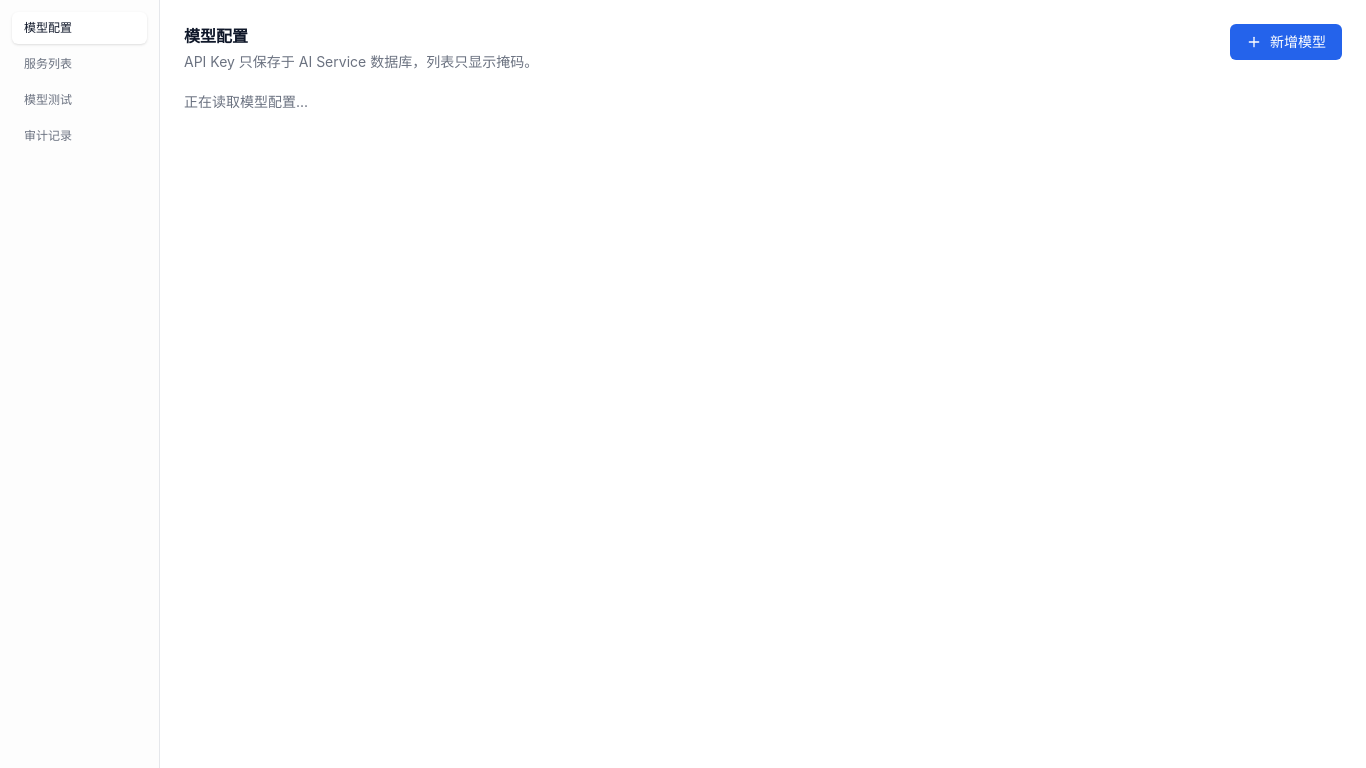
Test case: AI Service 内置应用 › 模型测试显示可编辑请求、原始响应，并可新增后自动选中新模型
The image size is (1366, 768).
Press the mouse on the tab "模型测试" at (80, 100), box [12,84,147,116]
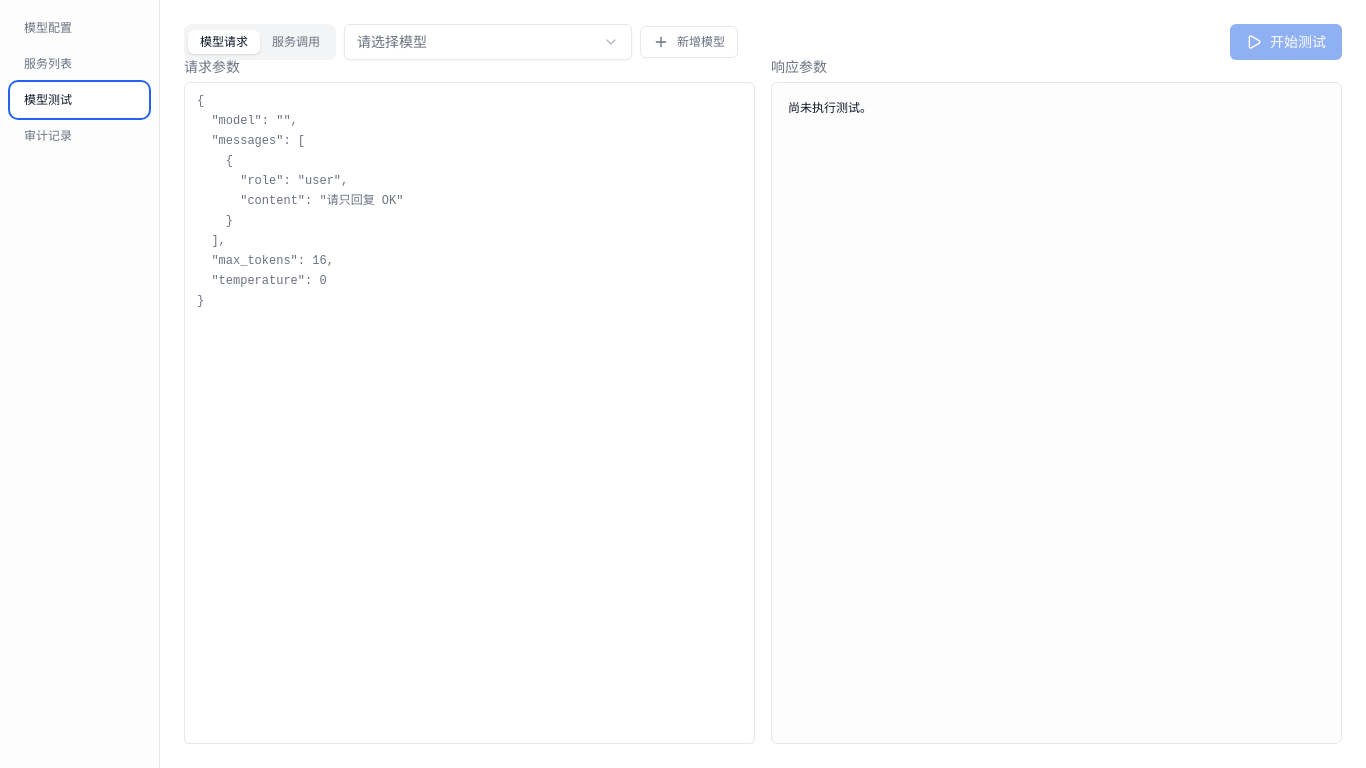
Click the tab "模型测试" at (80, 100), box [12,84,147,116]
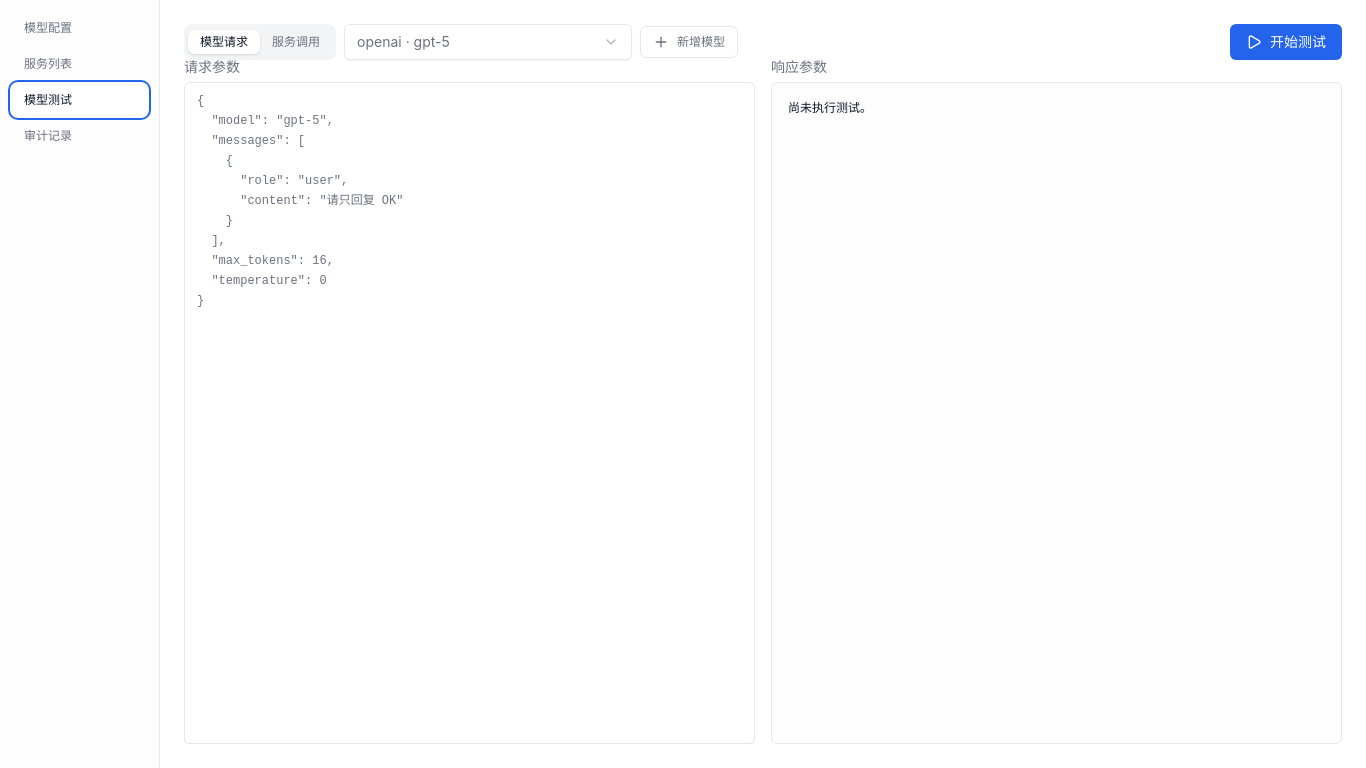
expect the dropdown named "测试模型" reads "openai · gpt-5": met, box [344,24,632,60]
Click the button "开始测试" at (1286, 42), box [1230,24,1342,60]
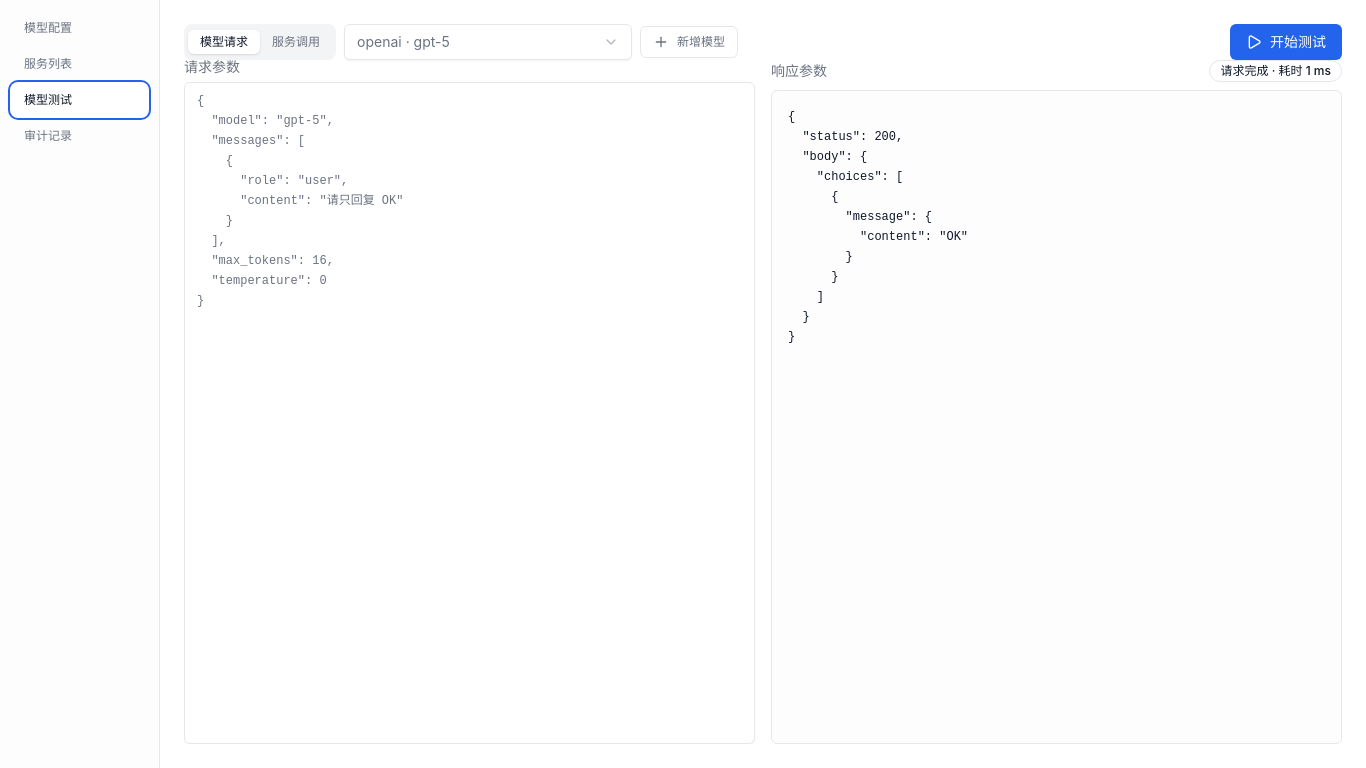
expect the text "请求参数" is shown: met, box [184,58,240,75]
expect the text "响应参数" is shown: met, box [771,64,827,78]
Click the button "新增模型" at (689, 42), box [640,26,738,58]
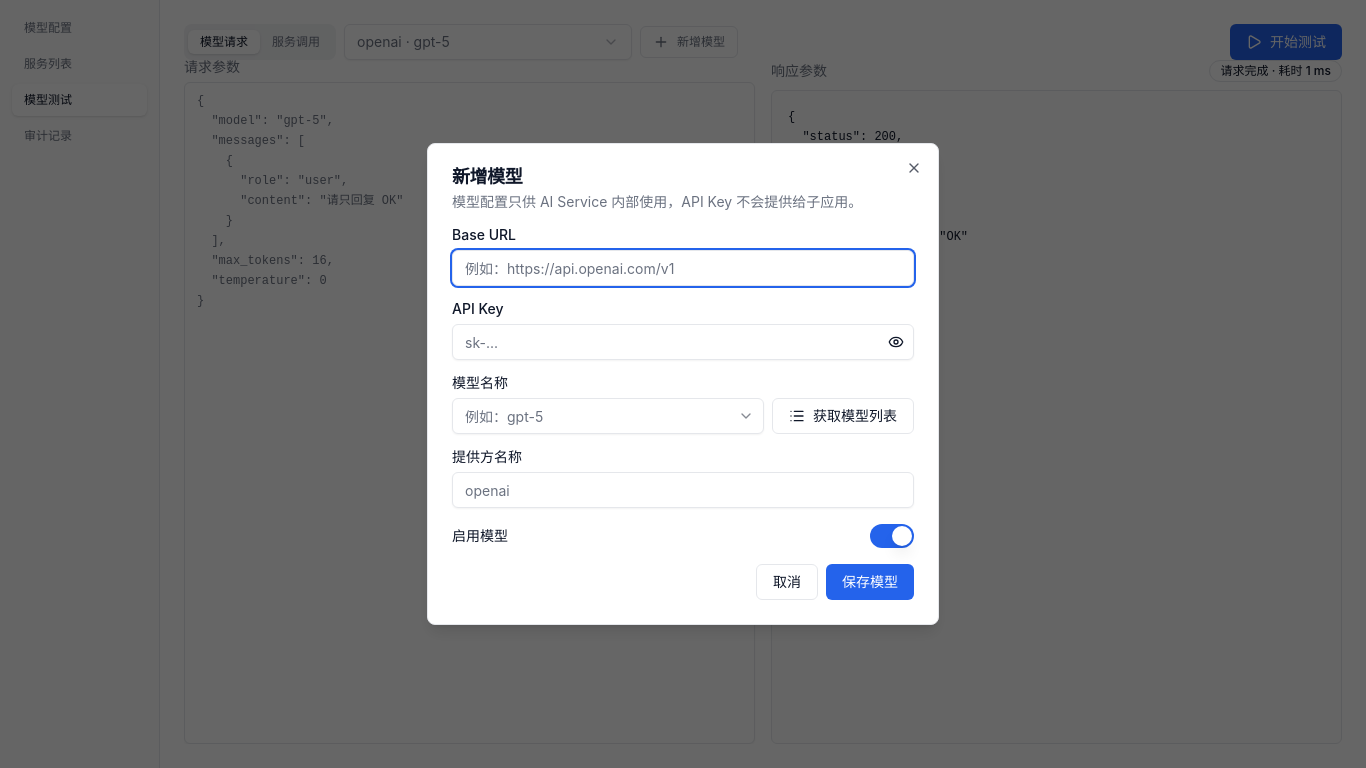
Type "https://api.acme.test/v1" into the field labelled "Base URL" at (683, 268), box [452,250,914,286]
Type "sk-new" into the password field labelled "API Key" at (683, 342), box [452,324,914,360]
Type "gpt-new" into the dropdown labelled "模型名称" at (608, 416), box [452,398,764,434]
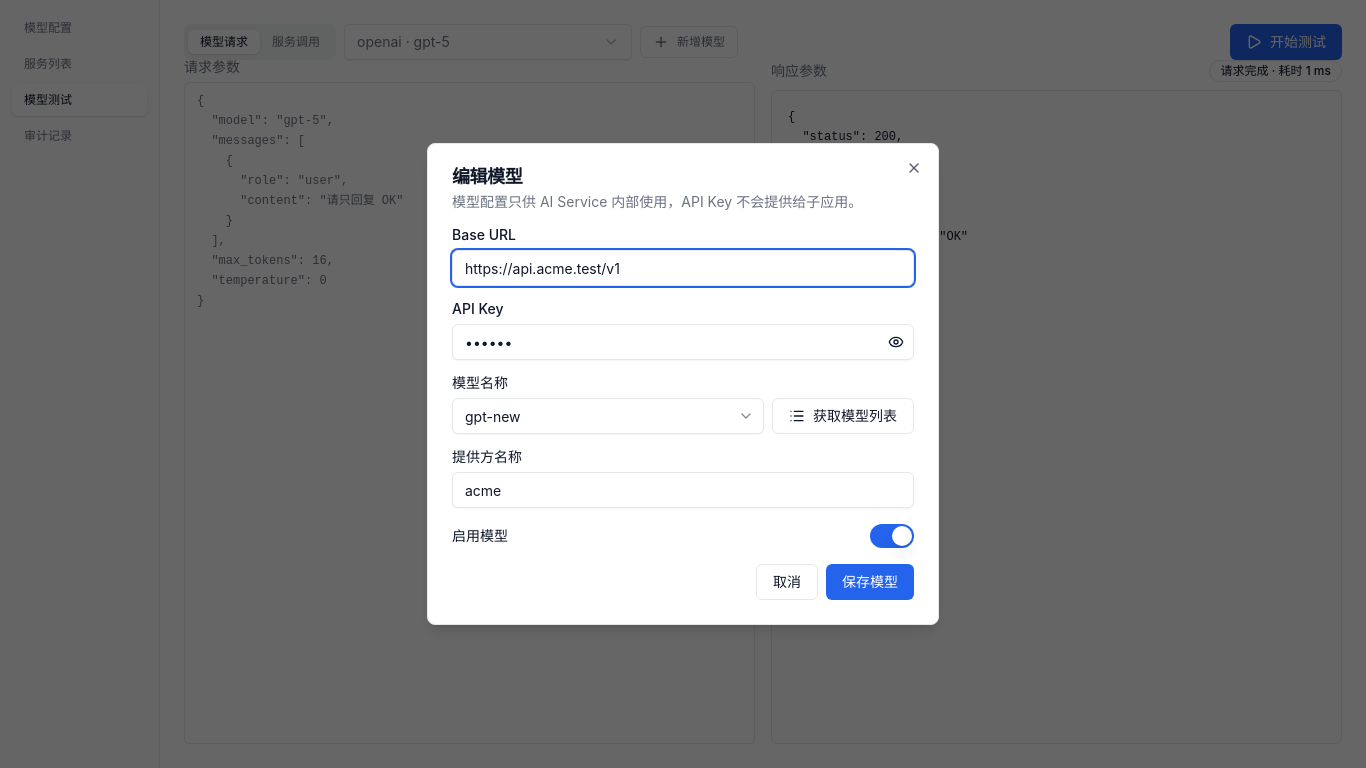
Click the button "保存模型" at (870, 582), box [826,564,914,600]
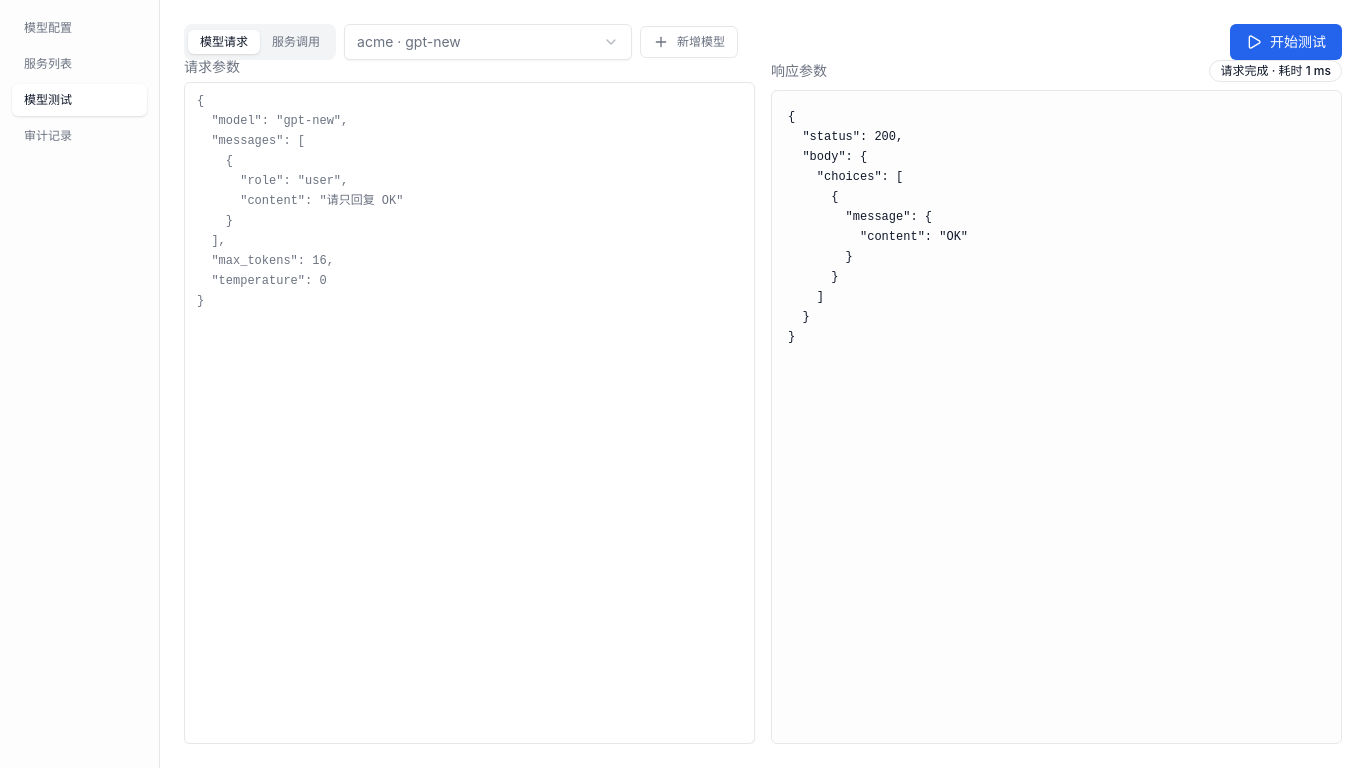
expect the dropdown named "测试模型" reads "acme · gpt-new": met, box [344,24,632,60]
